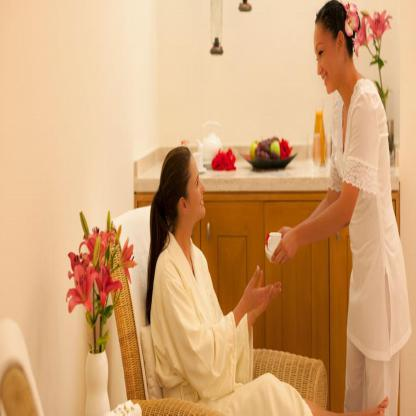face: (314, 28, 337, 97), (188, 153, 206, 218)
